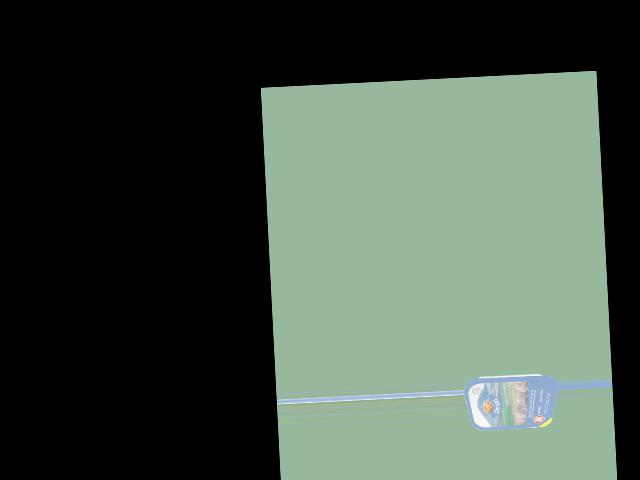cheese: (469, 366, 550, 433)
